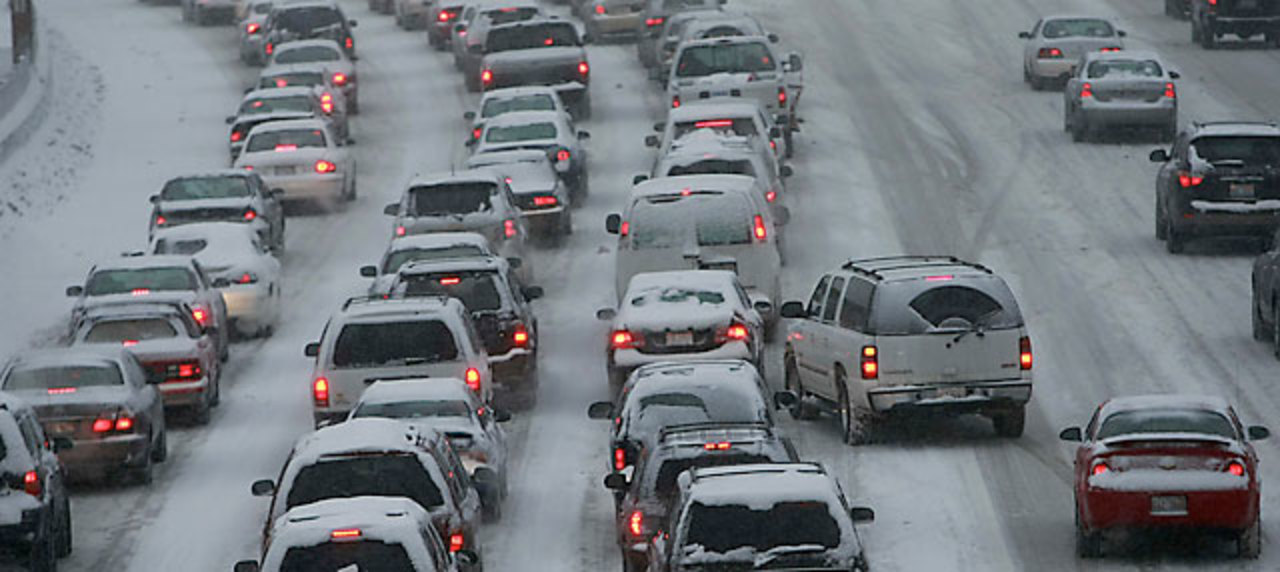car: (20, 3, 1140, 490), (776, 251, 1039, 441), (245, 422, 485, 569), (1070, 392, 1265, 558), (657, 451, 865, 570), (303, 298, 485, 428), (611, 181, 788, 311), (1, 349, 162, 489), (387, 261, 536, 399), (65, 305, 223, 425), (609, 270, 767, 388), (1149, 117, 1279, 255), (614, 361, 773, 471), (71, 258, 227, 350), (148, 226, 279, 333), (339, 379, 495, 468), (668, 37, 802, 140), (145, 169, 286, 257), (647, 140, 792, 223), (1064, 50, 1182, 144), (390, 173, 522, 255), (650, 106, 791, 182), (234, 130, 353, 212), (479, 18, 590, 100), (462, 152, 570, 233), (477, 115, 586, 193), (1018, 15, 1129, 89), (370, 233, 501, 295), (651, 10, 767, 76), (265, 44, 360, 107), (252, 68, 352, 118), (227, 116, 331, 159), (463, 85, 569, 126), (236, 88, 336, 123), (1251, 238, 1277, 352)
